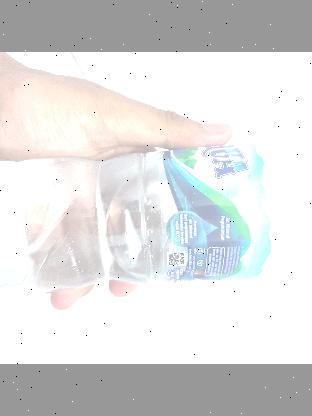Plastic Bottle: (0, 134, 312, 315)
